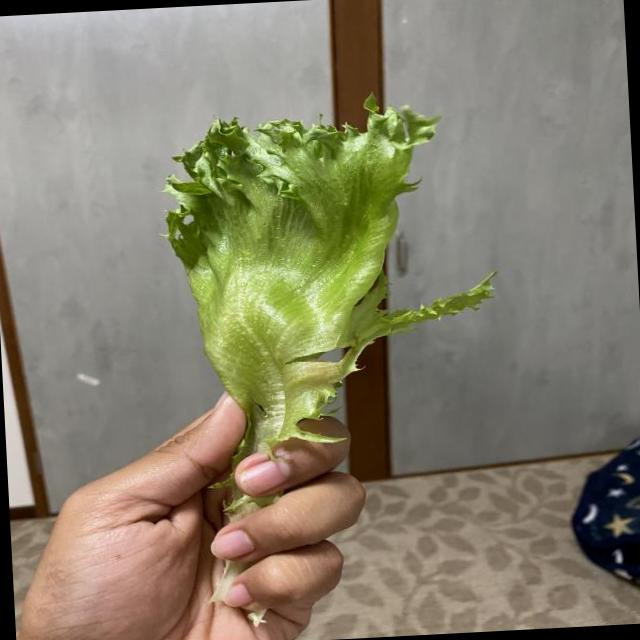Lettuce-Ready-to-Harvest: (165, 99, 492, 465)
